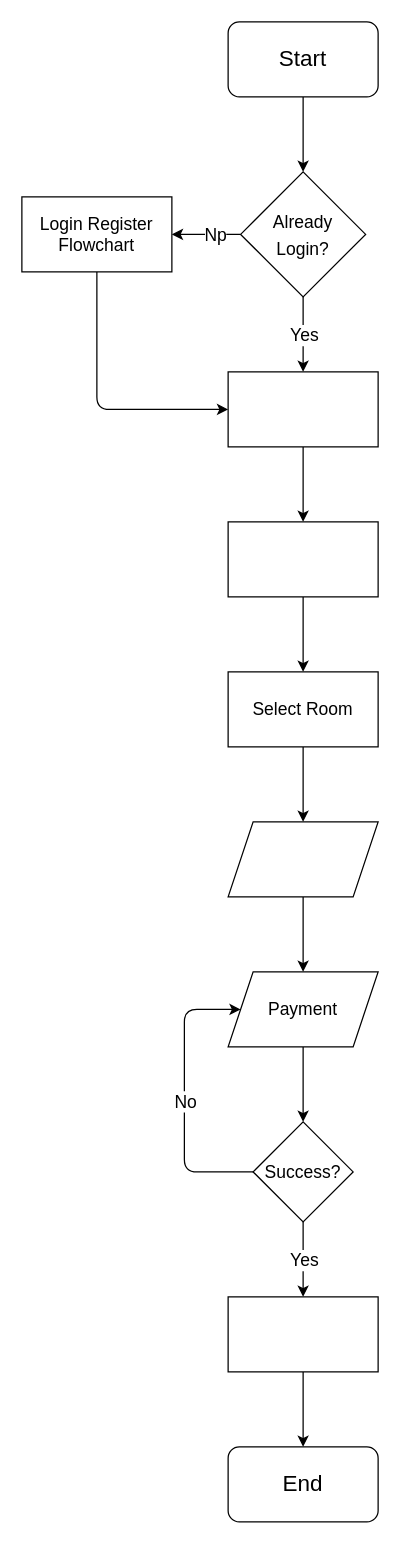
Some shapes in this 400 by 1544 pixel diagram are drawn without their labels. The shapes that lost their labels are listed below. From the top down, each one's box as (x1, y1, x2, y2) in pixels, then its label:
(227, 371, 378, 447): Dashboard
(227, 521, 378, 597): Active Room
(227, 821, 378, 897): Select Plan
(227, 1296, 378, 1372): Renew Success, sent receipt
